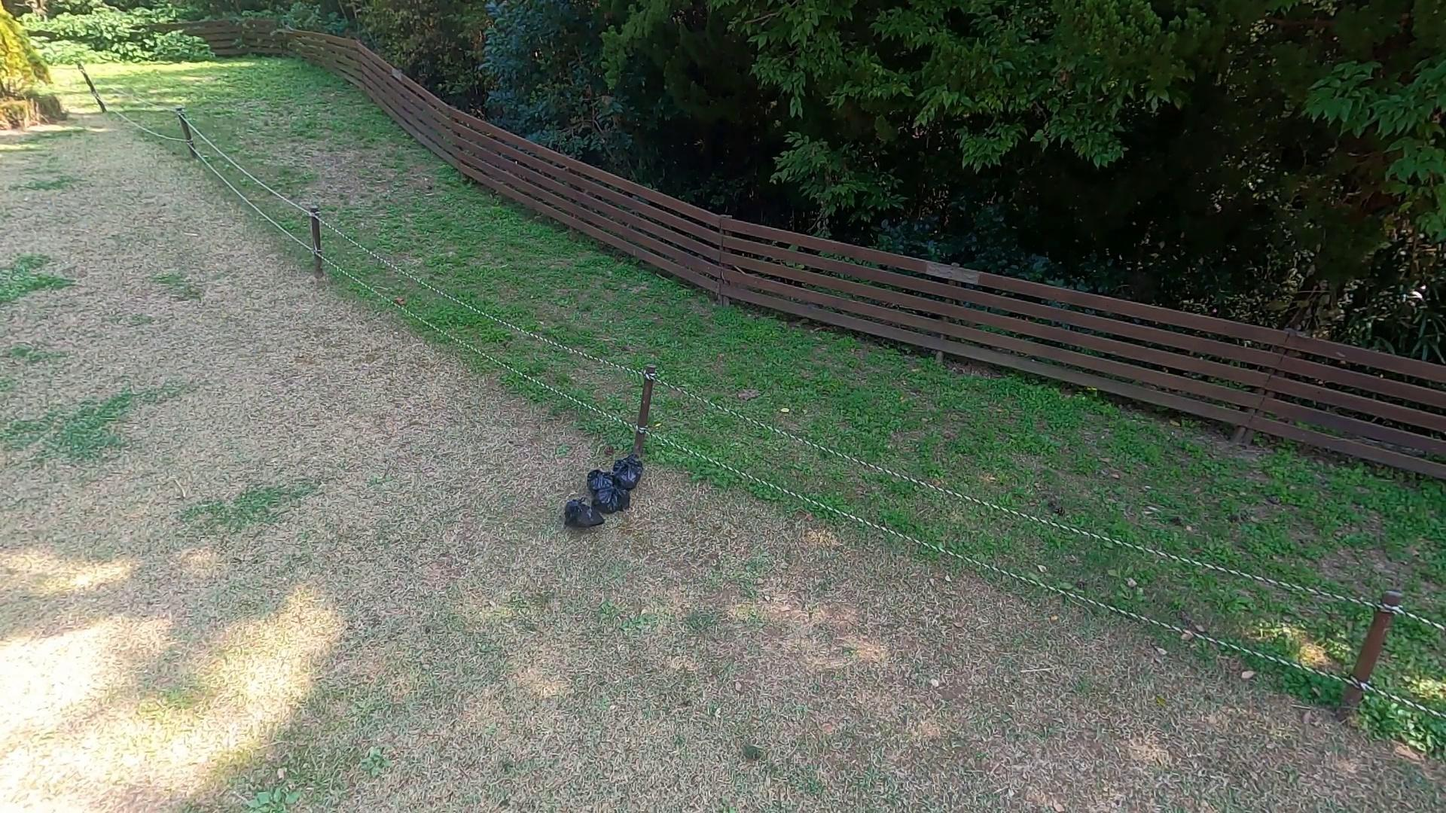trash: (561, 493, 610, 534), (594, 480, 633, 519), (611, 452, 645, 494), (582, 466, 620, 498)
